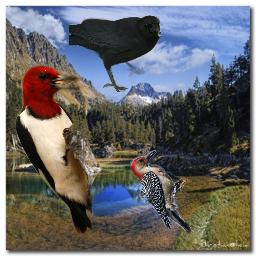Crow: (69, 15, 161, 92)
Woodpecker: (15, 65, 92, 234), (130, 150, 192, 234)
